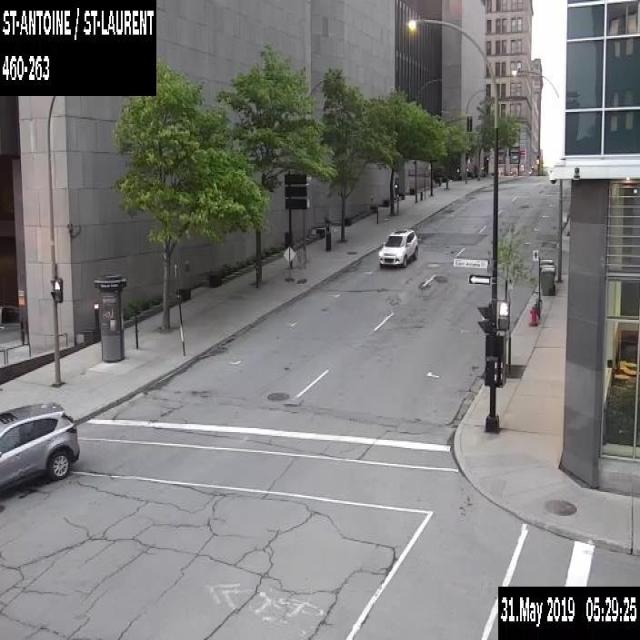construction: (282, 245, 296, 280), (296, 247, 308, 283)
vehicle: (0, 401, 79, 500), (377, 226, 418, 266)
